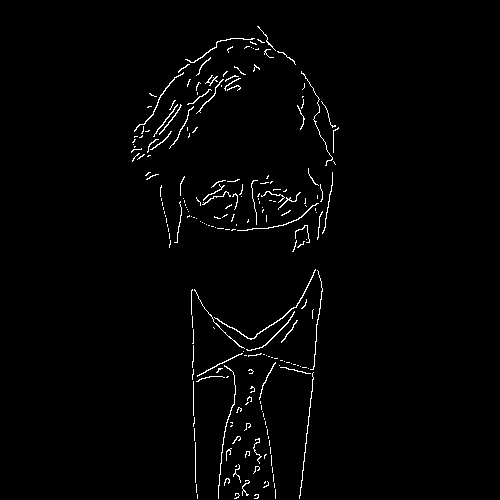mask: (178, 209, 318, 338)
